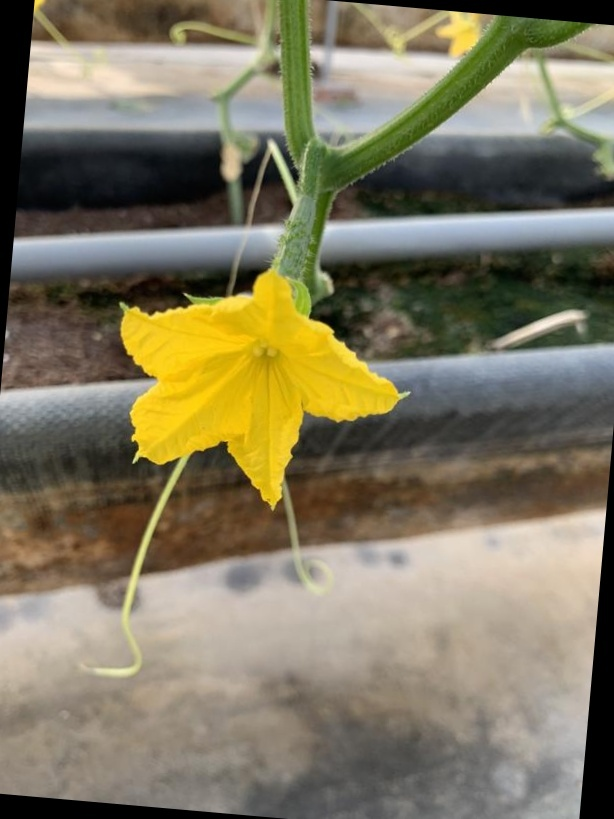flowering: (105, 174, 412, 521)
